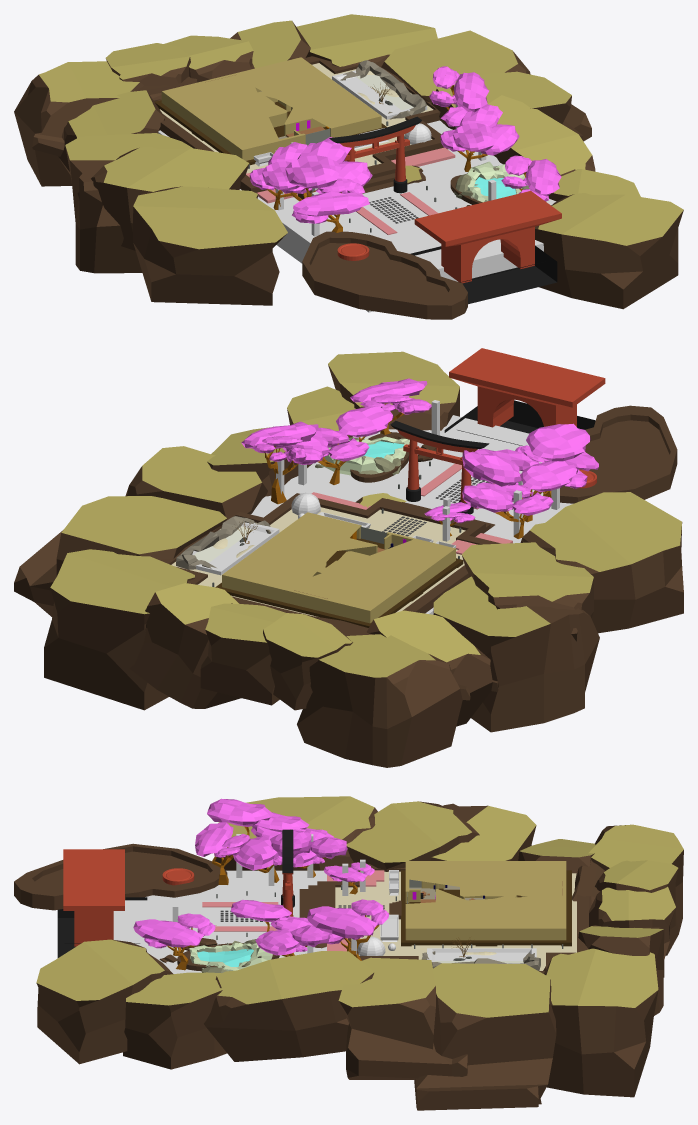
The model's file is dummy READY TO USE.fbx.
3 renders of one model, top to bottom at view 1: azimuth 30°, elevation 25°; view 2: azimuth 150°, elevation 25°; view 3: azimuth 270°, elevation 25°, orthographic. The views are drawn at different scales.
Parts seen in each view (by area): view 1: Suround stones, Denah Rumah, kolam Spawn Point MC, Spawn Point Soul, Tanah Utama, POHO SAKURA 1.001, POHO SAKURA 1, Tanah Rumah, Tori Gate, batu taman jalan (abu) dan tanaman hias (pink), kolam, frame batu (+5 smaller); view 2: Suround stones, Denah Rumah, Spawn Point Soul, POHO SAKURA 1.001, Tanah Utama, POHO SAKURA 1, kolam Spawn Point MC, Tanah Rumah, Tori Gate, kolam, base rumah, batu taman jalan (abu) dan tanaman hias (pink) (+5 smaller); view 3: Suround stones, Denah Rumah, POHO SAKURA 1, Tanah Utama, POHO SAKURA 1.001, Spawn Point Soul, kolam Spawn Point MC, Tanah Rumah, base rumah, kolam, batu taman jalan (abu) dan tanaman hias (pink), TAMAN ZEN (+7 smaller).
Boxes of the visible parts, bbox=[...] form: Suround stones: bbox=[14, 14, 683, 309]; Denah Rumah: bbox=[161, 57, 381, 160]; kolam Spawn Point MC: bbox=[302, 231, 467, 319]; Spawn Point Soul: bbox=[410, 191, 561, 304]; Tanah Utama: bbox=[158, 120, 556, 312]; POHO SAKURA 1.001: bbox=[249, 137, 372, 232]; POHO SAKURA 1: bbox=[429, 66, 561, 201]; Tanah Rumah: bbox=[153, 56, 448, 199]; Tori Gate: bbox=[329, 116, 421, 193]; batu taman jalan (abu) dan tanaman hias (pink): bbox=[246, 147, 455, 234]; kolam: bbox=[454, 161, 529, 202]; frame batu: bbox=[340, 60, 426, 119]; Suround stones: bbox=[14, 351, 683, 767]; Denah Rumah: bbox=[222, 512, 455, 623]; Spawn Point Soul: bbox=[444, 348, 605, 445]; POHO SAKURA 1.001: bbox=[462, 423, 598, 538]; Tanah Utama: bbox=[251, 415, 573, 614]; POHO SAKURA 1: bbox=[241, 378, 431, 504]; kolam Spawn Point MC: bbox=[560, 405, 677, 503]; Tanah Rumah: bbox=[159, 493, 500, 617]; Tori Gate: bbox=[390, 420, 489, 514]; kolam: bbox=[315, 436, 409, 475]; base rumah: bbox=[215, 538, 463, 627]; batu taman jalan (abu) dan tanaman hias (pink): bbox=[311, 463, 512, 554]; Suround stones: bbox=[36, 796, 683, 1110]; Denah Rumah: bbox=[405, 861, 566, 940]; POHO SAKURA 1: bbox=[133, 899, 389, 970]; Tanah Utama: bbox=[113, 870, 326, 973]; POHO SAKURA 1.001: bbox=[195, 798, 347, 884]; Spawn Point Soul: bbox=[57, 849, 147, 957]; kolam Spawn Point MC: bbox=[14, 843, 227, 910]; Tanah Rumah: bbox=[299, 864, 588, 973]; base rumah: bbox=[389, 870, 571, 946]; kolam: bbox=[189, 939, 272, 973]; batu taman jalan (abu) dan tanaman hias (pink): bbox=[202, 870, 384, 951]; TAMAN ZEN: bbox=[427, 948, 536, 961].
Bounding box in the file's own units: 20013 × 5888 × 22935.
